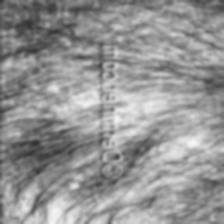Non-Cancerous Skin Condition: (11, 64, 92, 127), (162, 118, 206, 158), (56, 158, 100, 194)
